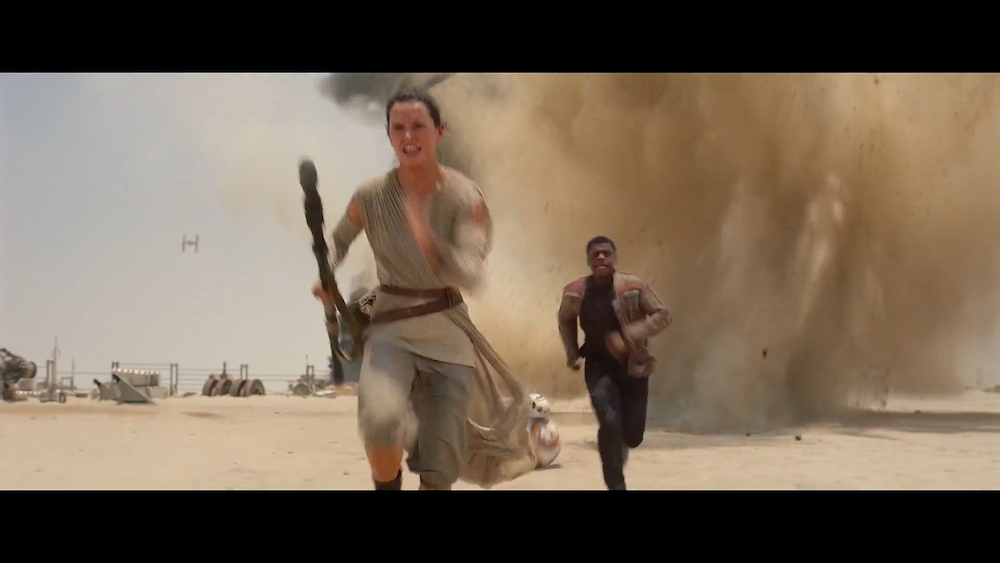Tie Fighter: (183, 235, 199, 254)
